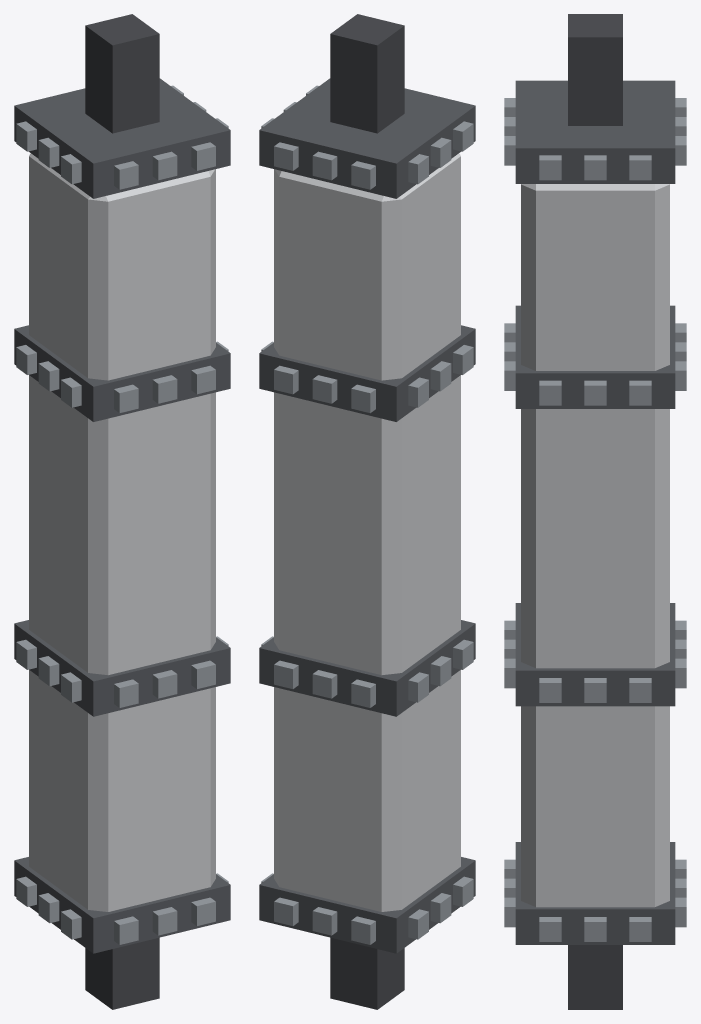
The model's file is SM_Obstacle_02_A_Pillar_Top_Lid.fbx.
The picture shows the model from 3 angles, left to right: view 1: azimuth 30°, elevation 25°; view 2: azimuth 150°, elevation 25°; view 3: azimuth 270°, elevation 25°; orthographic projection.
Visible parts, largest first — view 1: pCube666; view 2: pCube666; view 3: pCube666.
Boxes of the visible parts, x1=… form: pCube666: x1=14, y1=14, x2=230, y2=1009; pCube666: x1=259, y1=14, x2=475, y2=1009; pCube666: x1=504, y1=14, x2=686, y2=1009.
Bounding box in the file's own units: 33.91 × 199 × 33.91.
1 material, 1 textured.
